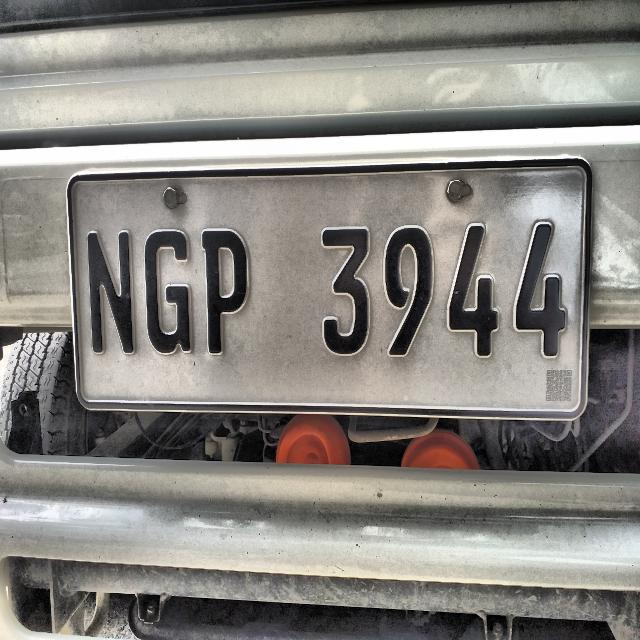license-plate: (67, 161, 587, 417)
